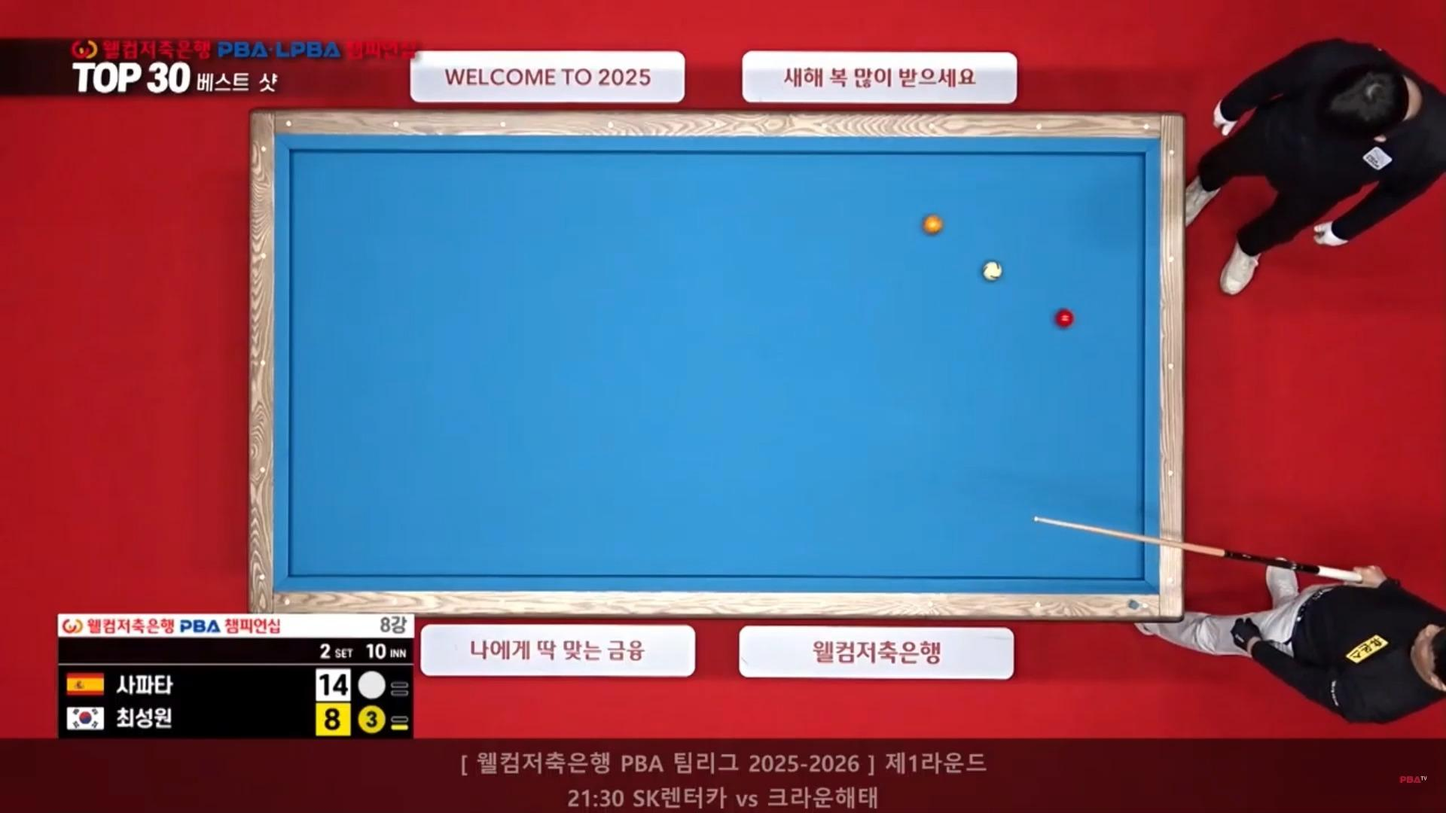Red: (1058, 307, 1082, 325), (1053, 310, 1076, 328)
White: (980, 261, 1004, 281)
Yellow: (924, 216, 947, 236)
